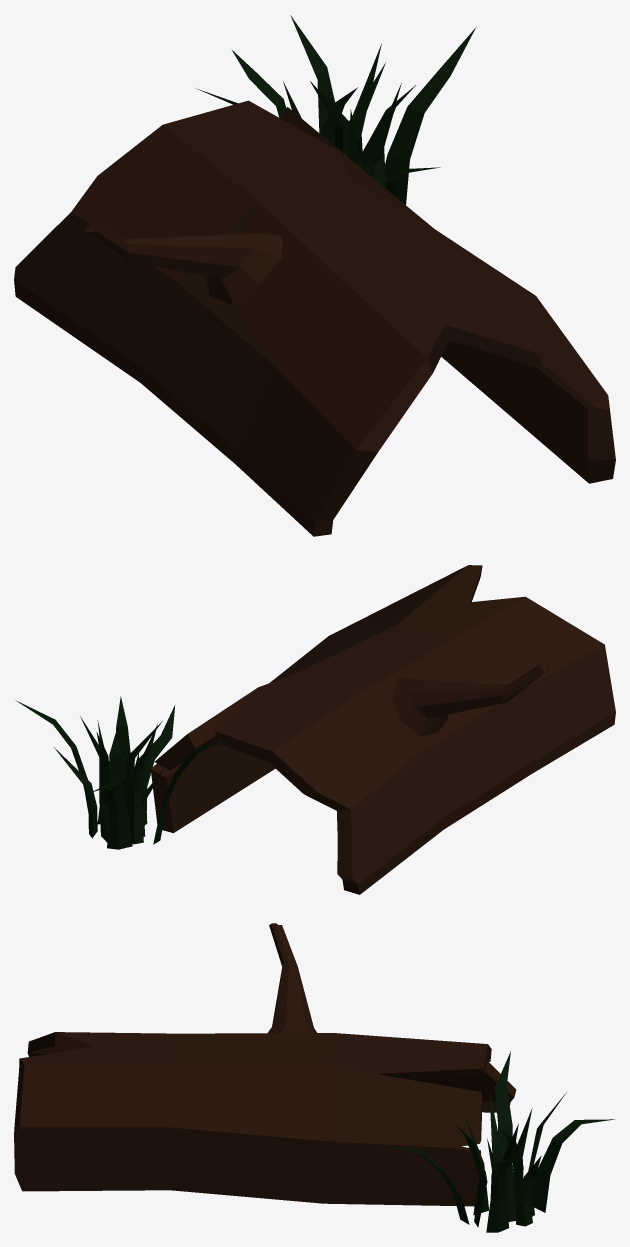
The model's file is LowPoly Tree .044.fbx.
3 renders of one model, top to bottom at view 1: azimuth 30°, elevation 25°; view 2: azimuth 150°, elevation 25°; view 3: azimuth 270°, elevation 25°, orthographic. The views are drawn at different scales.
Parts seen in each view (by area): view 1: LowPoly Tree .044; view 2: LowPoly Tree .044; view 3: LowPoly Tree .044.
Part boxes in pixels (x1,y1,x2,y2): LowPoly Tree .044: [14, 15, 615, 536]; LowPoly Tree .044: [15, 565, 615, 894]; LowPoly Tree .044: [14, 923, 614, 1232].
Bounding box in the file's own units: 191 × 249 × 69.78.
